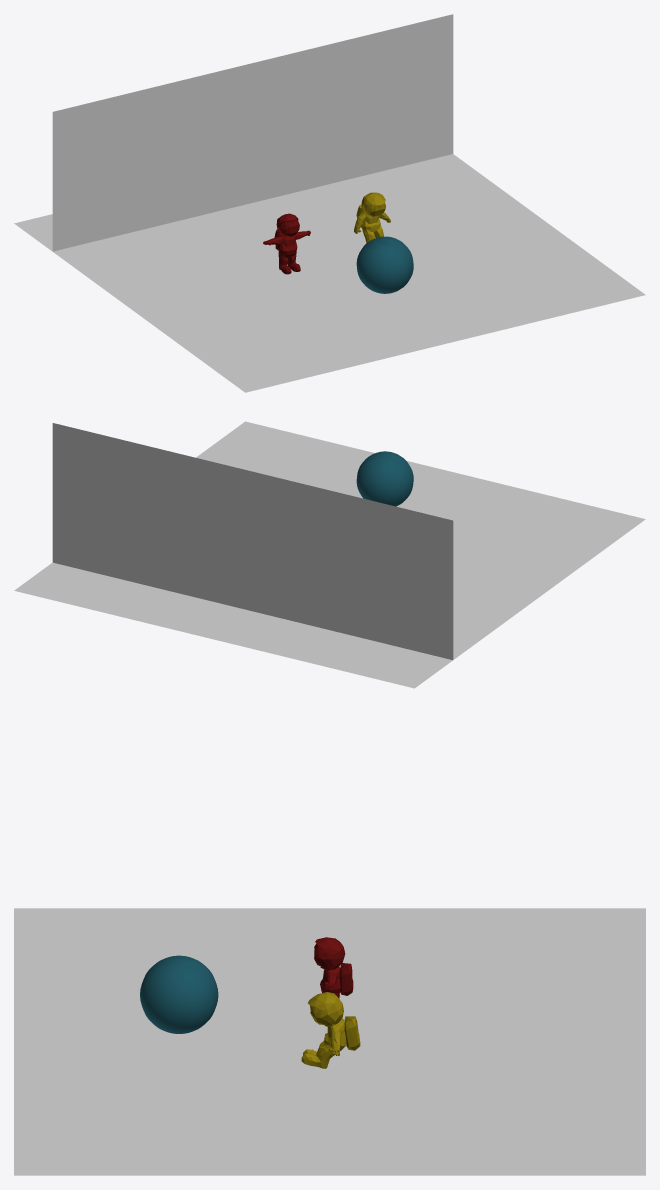
The model's file is astronauts_transparent.dae.
The picture shows the model from 3 angles, top to bottom: view 1: azimuth 30°, elevation 25°; view 2: azimuth 150°, elevation 25°; view 3: azimuth 270°, elevation 25°; orthographic projection. The views are drawn at different scales.
Visible parts, largest first — view 1: pPlane1, pPlane2, pSphere2, astronaut_Mesh, astronaut_sit_Mesh; view 2: pPlane2, pPlane1, pSphere2; view 3: pPlane1, pSphere2, astronaut_sit_Mesh, astronaut_Mesh.
Boxes of the visible parts, x1,y1,x2,y2 form: pPlane1: [14, 154, 645, 392]; pPlane2: [52, 14, 453, 251]; pSphere2: [356, 236, 413, 293]; astronaut_Mesh: [263, 213, 310, 274]; astronaut_sit_Mesh: [354, 192, 390, 243]; pPlane2: [52, 423, 453, 659]; pPlane1: [14, 421, 645, 688]; pSphere2: [356, 451, 413, 506]; pPlane1: [14, 908, 645, 1175]; pSphere2: [140, 955, 218, 1033]; astronaut_sit_Mesh: [301, 992, 360, 1068]; astronaut_Mesh: [314, 937, 353, 998].
Bounding box in the file's own units: 3000 × 1001 × 3000.
